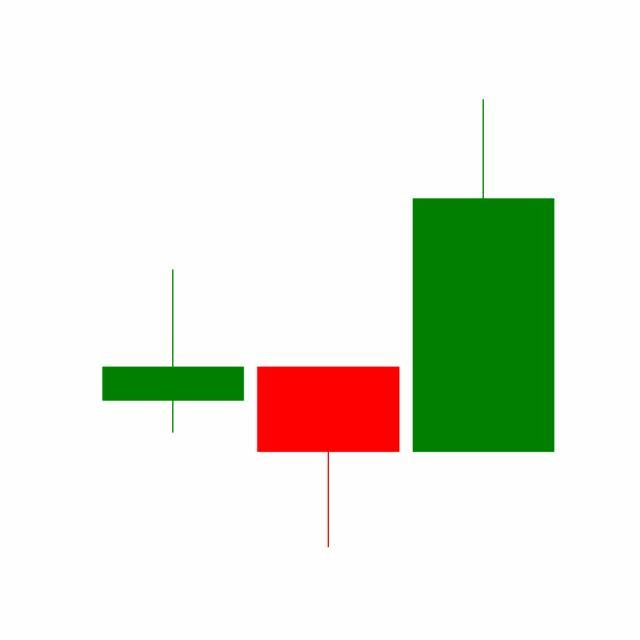Hammer: (250, 365, 407, 550)
